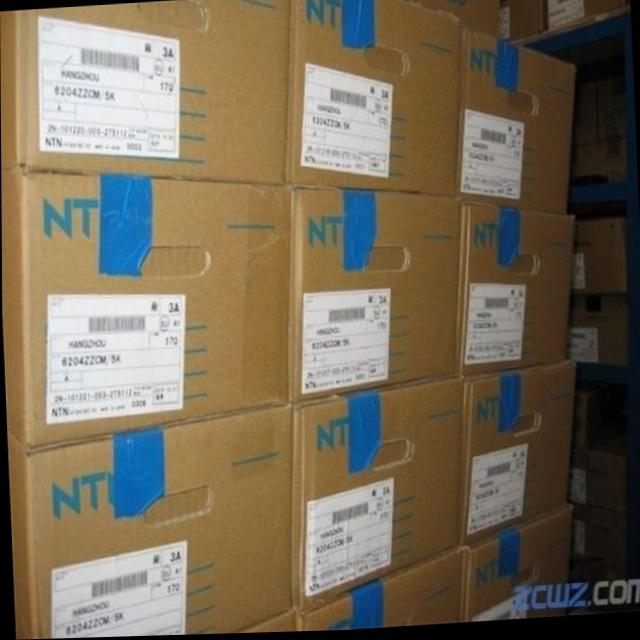box: (1, 171, 289, 448), (6, 404, 292, 640), (0, 0, 292, 184), (292, 378, 467, 610), (290, 189, 462, 402), (291, 0, 461, 200), (458, 28, 574, 216), (459, 364, 575, 549), (458, 201, 573, 377), (294, 551, 461, 632), (461, 509, 570, 623), (568, 78, 625, 194), (571, 435, 640, 515), (567, 509, 640, 580), (572, 222, 637, 298), (567, 298, 636, 369), (395, 0, 498, 41), (569, 380, 625, 450), (542, 0, 629, 33), (497, 0, 547, 41), (230, 609, 296, 635)
